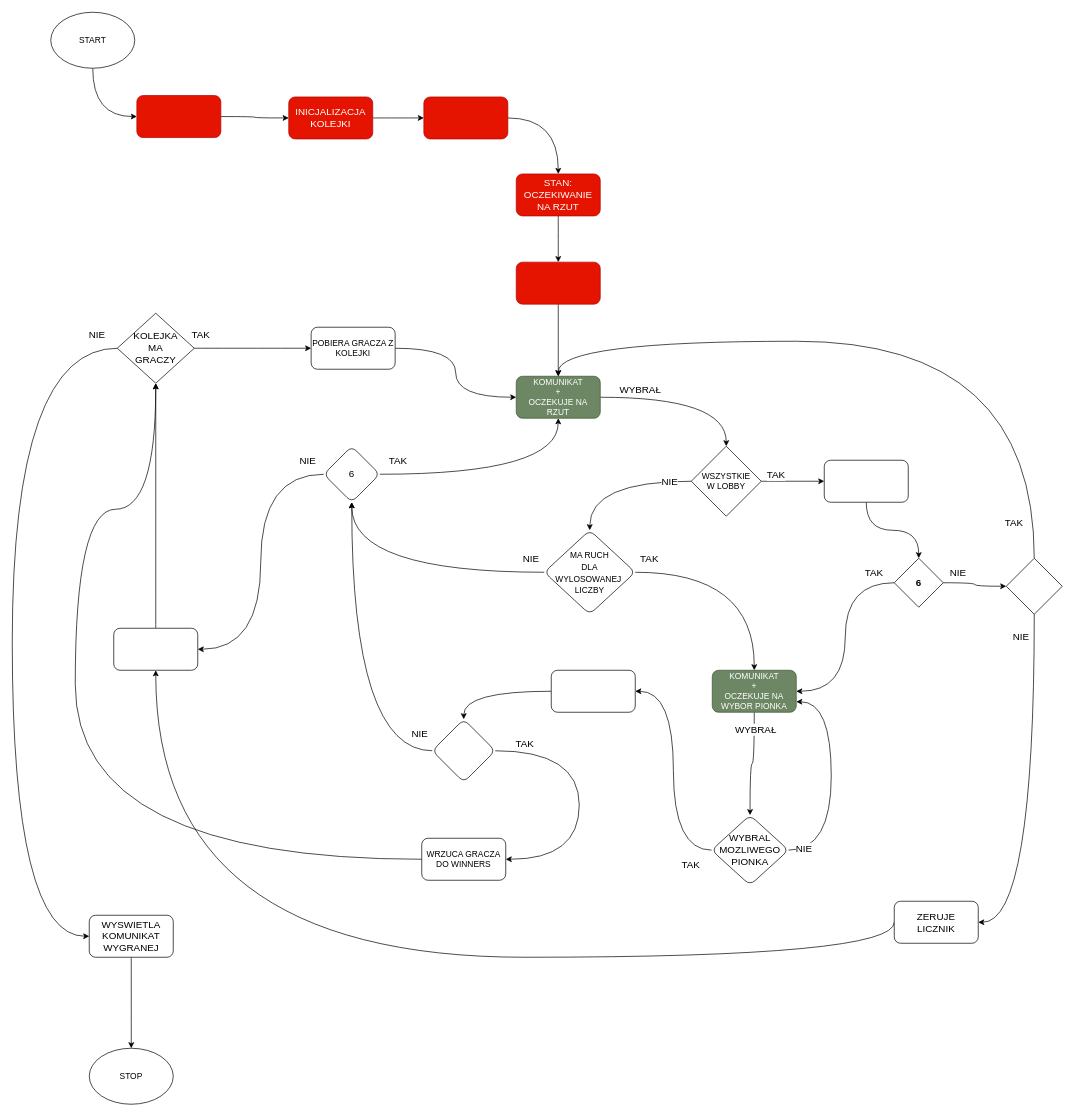
Some shapes in this 1075 by 1117 pixel diagram are drawn without their labels. Each missing label, with the centre of its shape:
"GRACZ WYGRAL" belongs at pixel 463 750.
"LICZNIK LOSOWAN < 3" belongs at pixel 1034 586.
"ODDAJE GRACZA DO KOLEJKI" belongs at pixel 155 649.
"POBRANIE GRACZA Z KOLEJKI" belongs at pixel 558 282.
"RUCH PIONKIEM" belongs at pixel 593 691.
"UKRYCIE PIONKOW" belongs at pixel 178 116.
"WYCZYSCIC WYGRANYCH" belongs at pixel 465 117.
"ZWIEKSZA LICZNIK" belongs at pixel 866 481.
